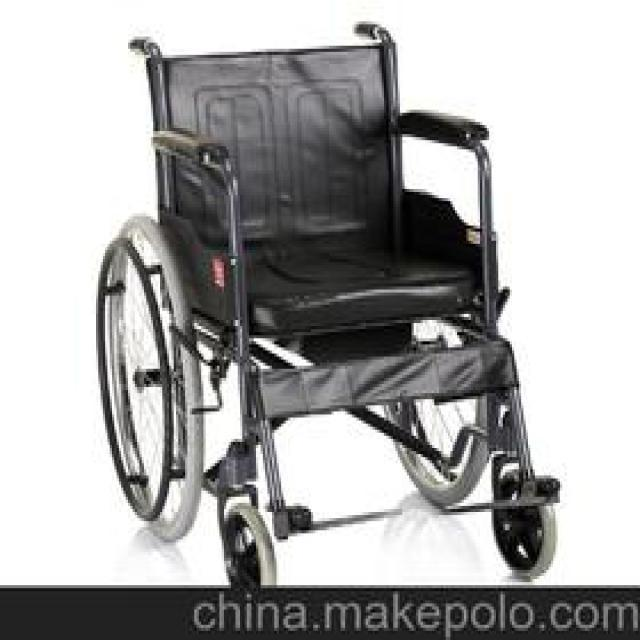wheelchair: (89, 15, 562, 582)
